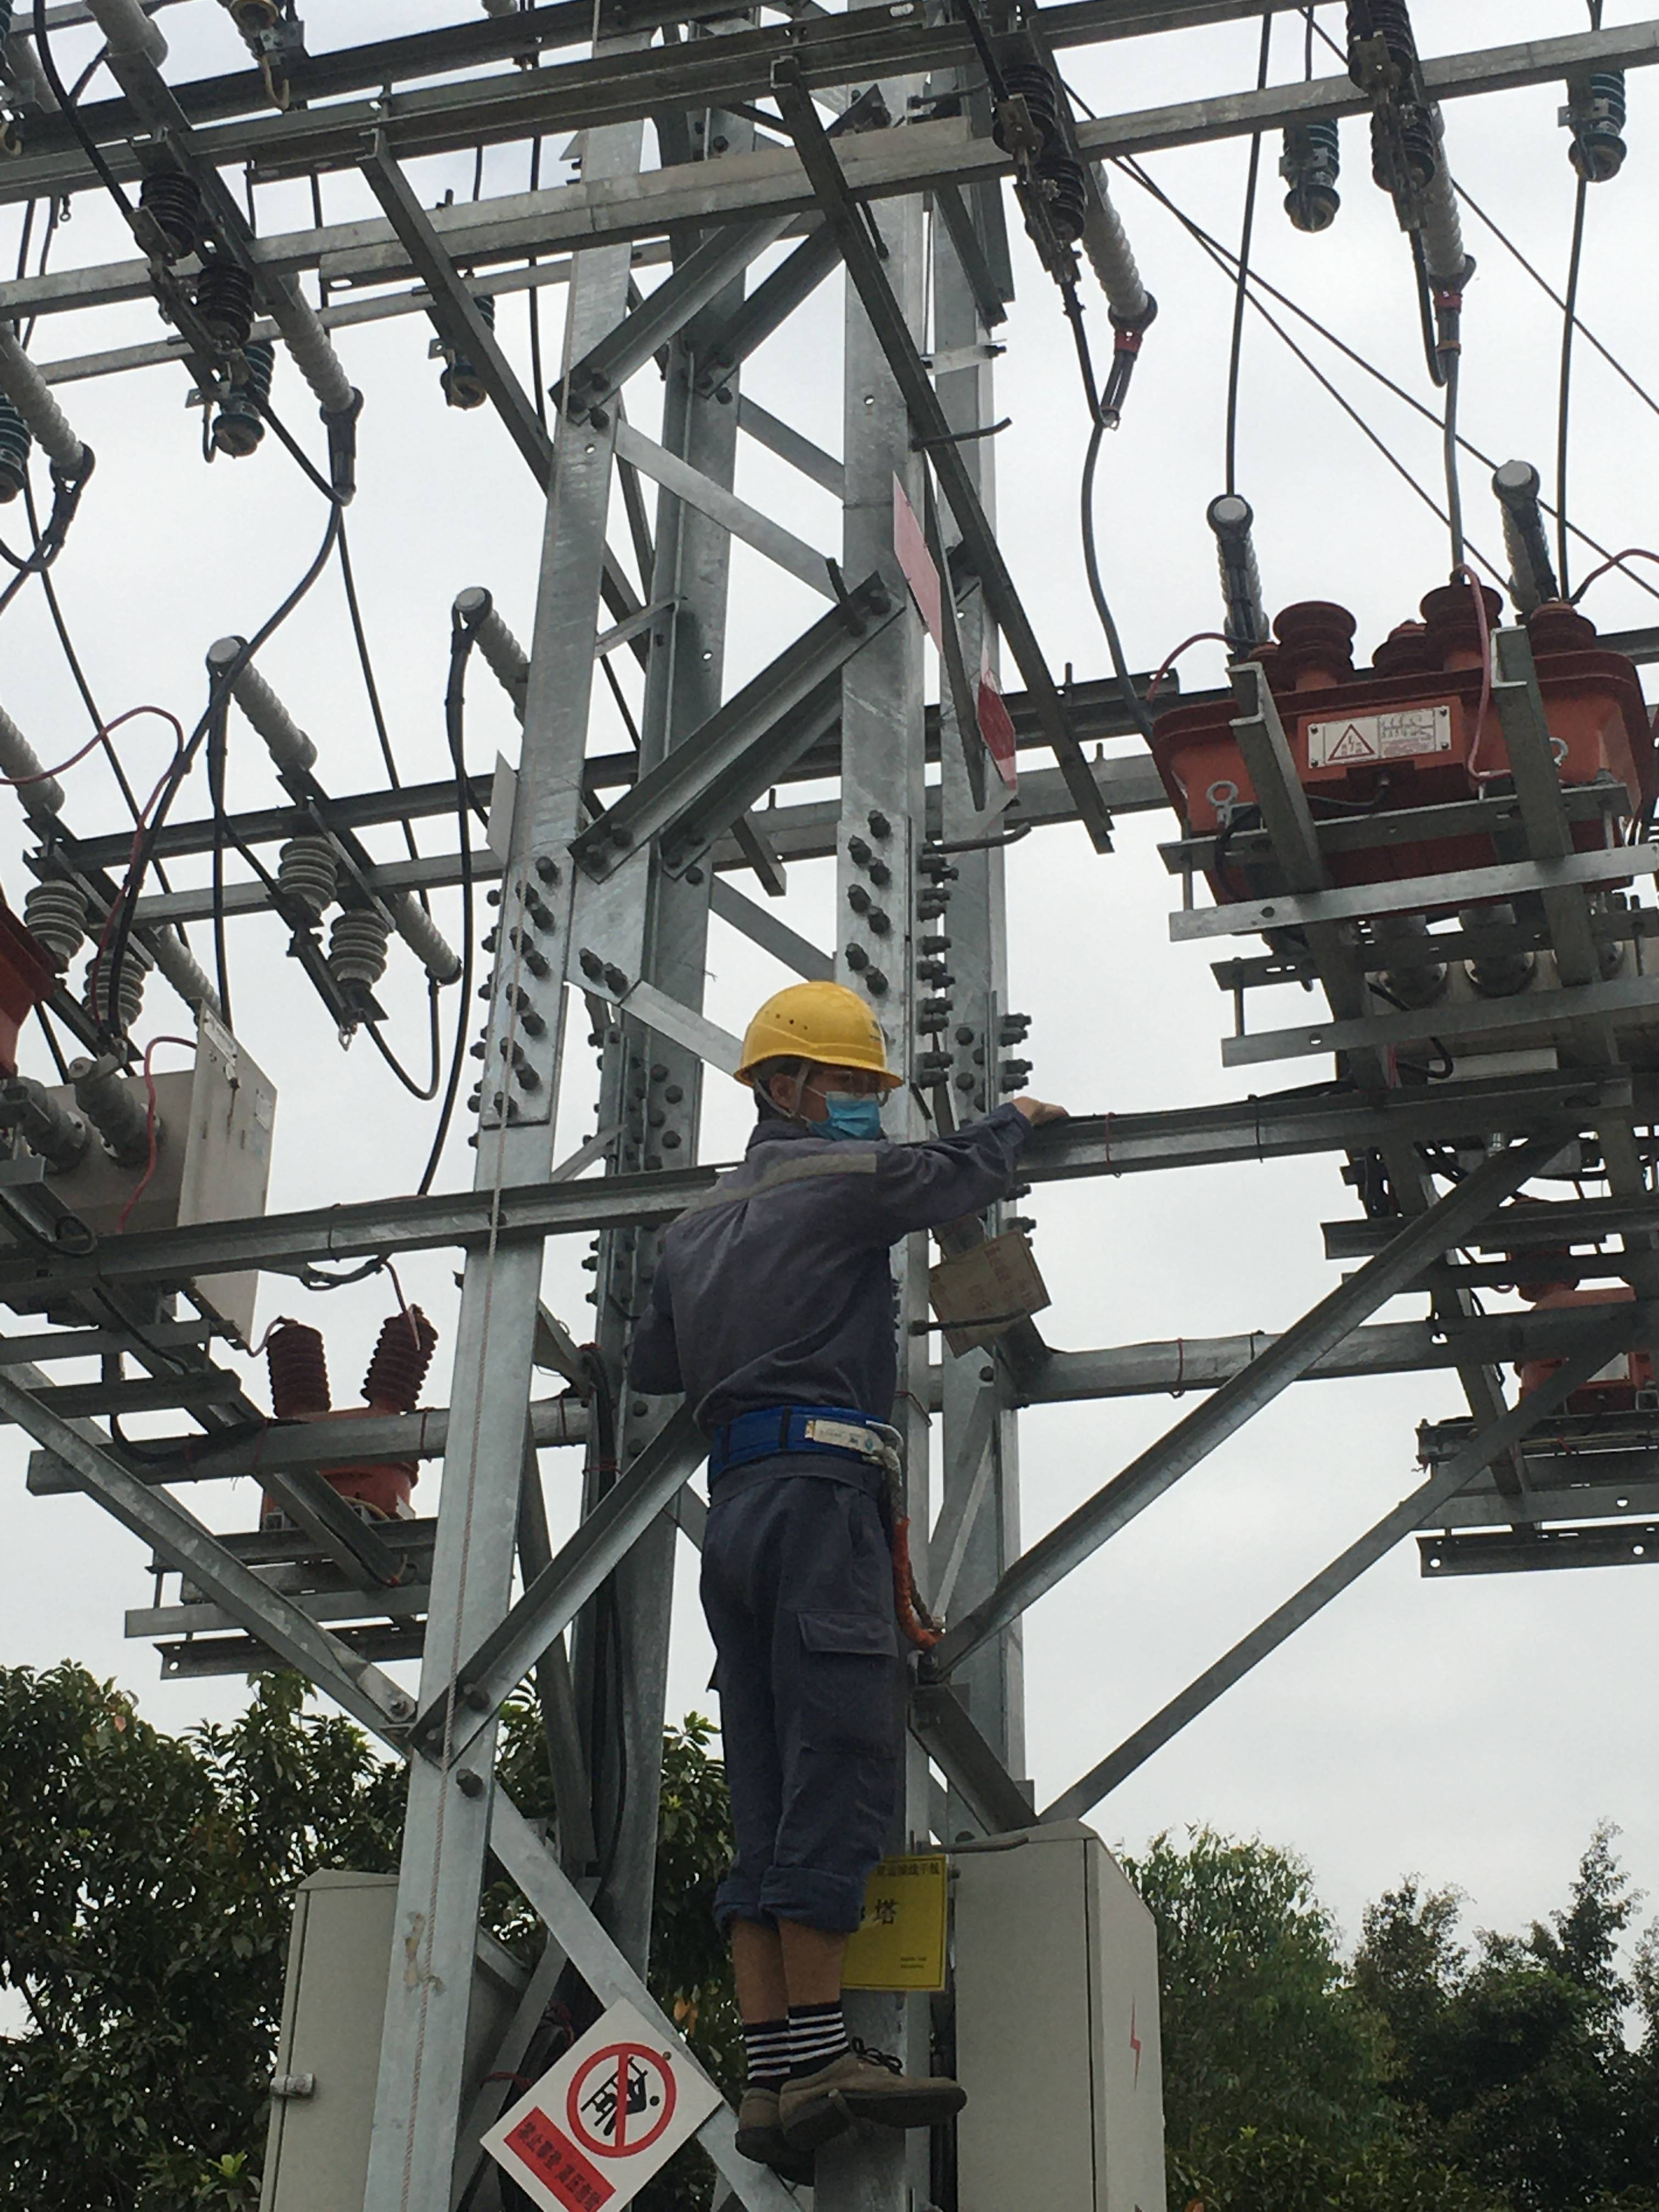downsuit: (699, 1475, 918, 1933)
upsuit: (634, 1151, 931, 1420)
wrongbottom: (708, 1895, 877, 2073)
